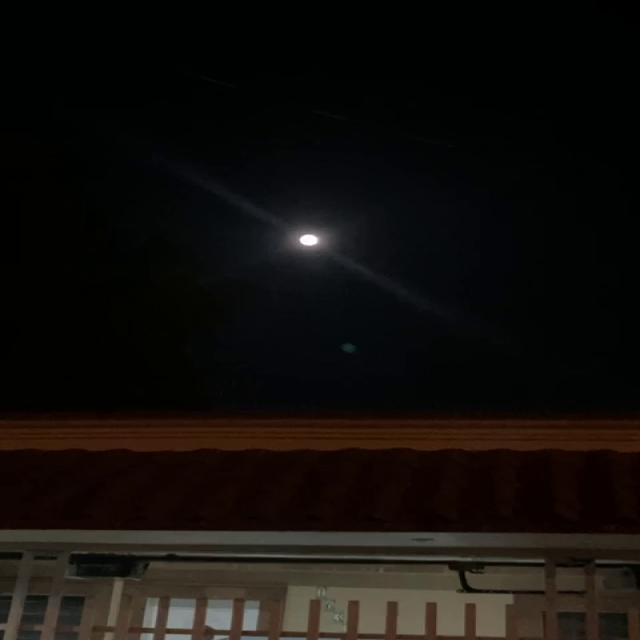moon: (290, 226, 332, 250)
